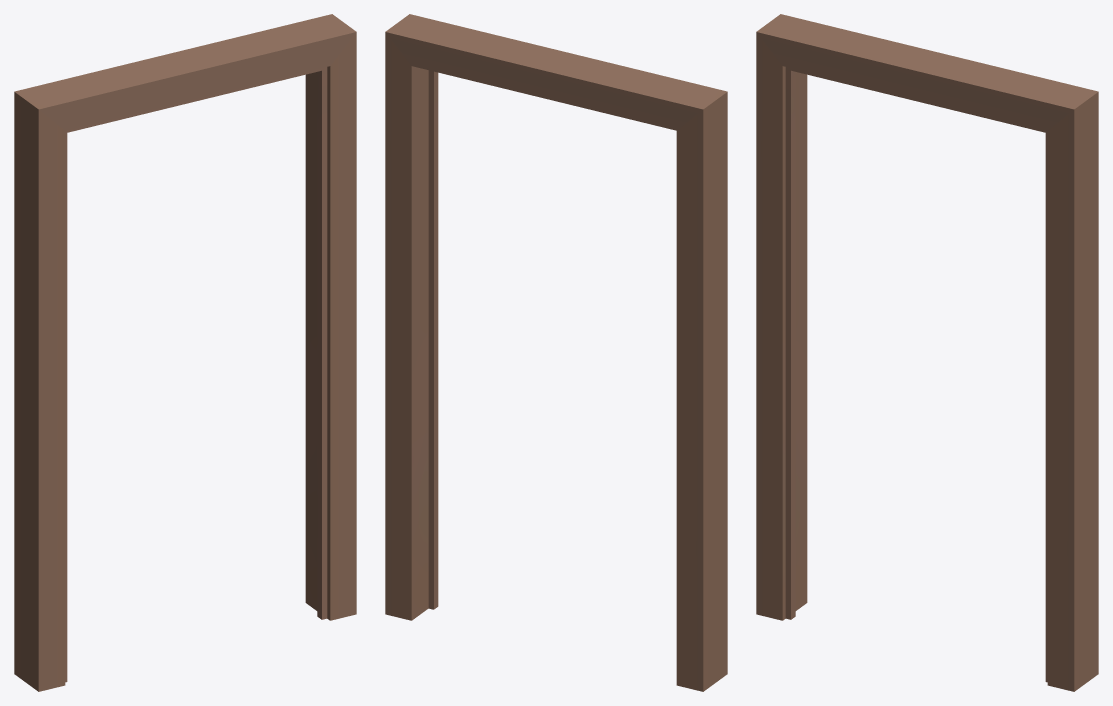
File: DoorHandle.fbx
The picture shows the model from 3 angles, left to right: view 1: azimuth 30°, elevation 25°; view 2: azimuth 150°, elevation 25°; view 3: azimuth 330°, elevation 25°; orthographic projection.
Visible parts, largest first — view 1: Door_Handle; view 2: Door_Handle; view 3: Door_Handle.
Boxes of the visible parts, <box> form: Door_Handle: <box>14,14,356,691</box>; Door_Handle: <box>385,14,727,691</box>; Door_Handle: <box>756,14,1098,691</box>.
Size of the model in its own units: 120 by 210 by 16.
